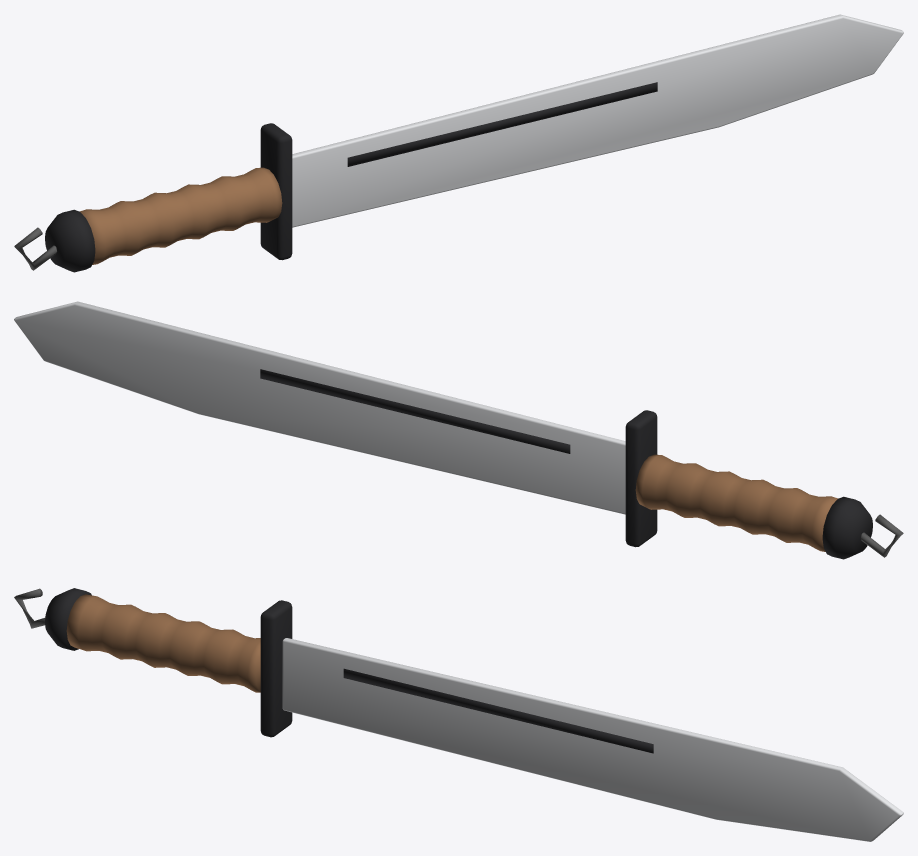
Rendered from SM_Machete.glb.
3 renders of one model, top to bottom at view 1: azimuth 30°, elevation 25°; view 2: azimuth 150°, elevation 25°; view 3: azimuth 330°, elevation 25°, orthographic.
Parts seen in each view (by area): view 1: SM_Machete; view 2: SM_Machete; view 3: SM_Machete.
Part boxes in pixels (x1,y1,x2,y2): SM_Machete: [14, 14, 903, 272]; SM_Machete: [14, 301, 903, 559]; SM_Machete: [14, 588, 903, 841].
Size of the model in its own units: 0.6016 by 0.08 by 0.036.
